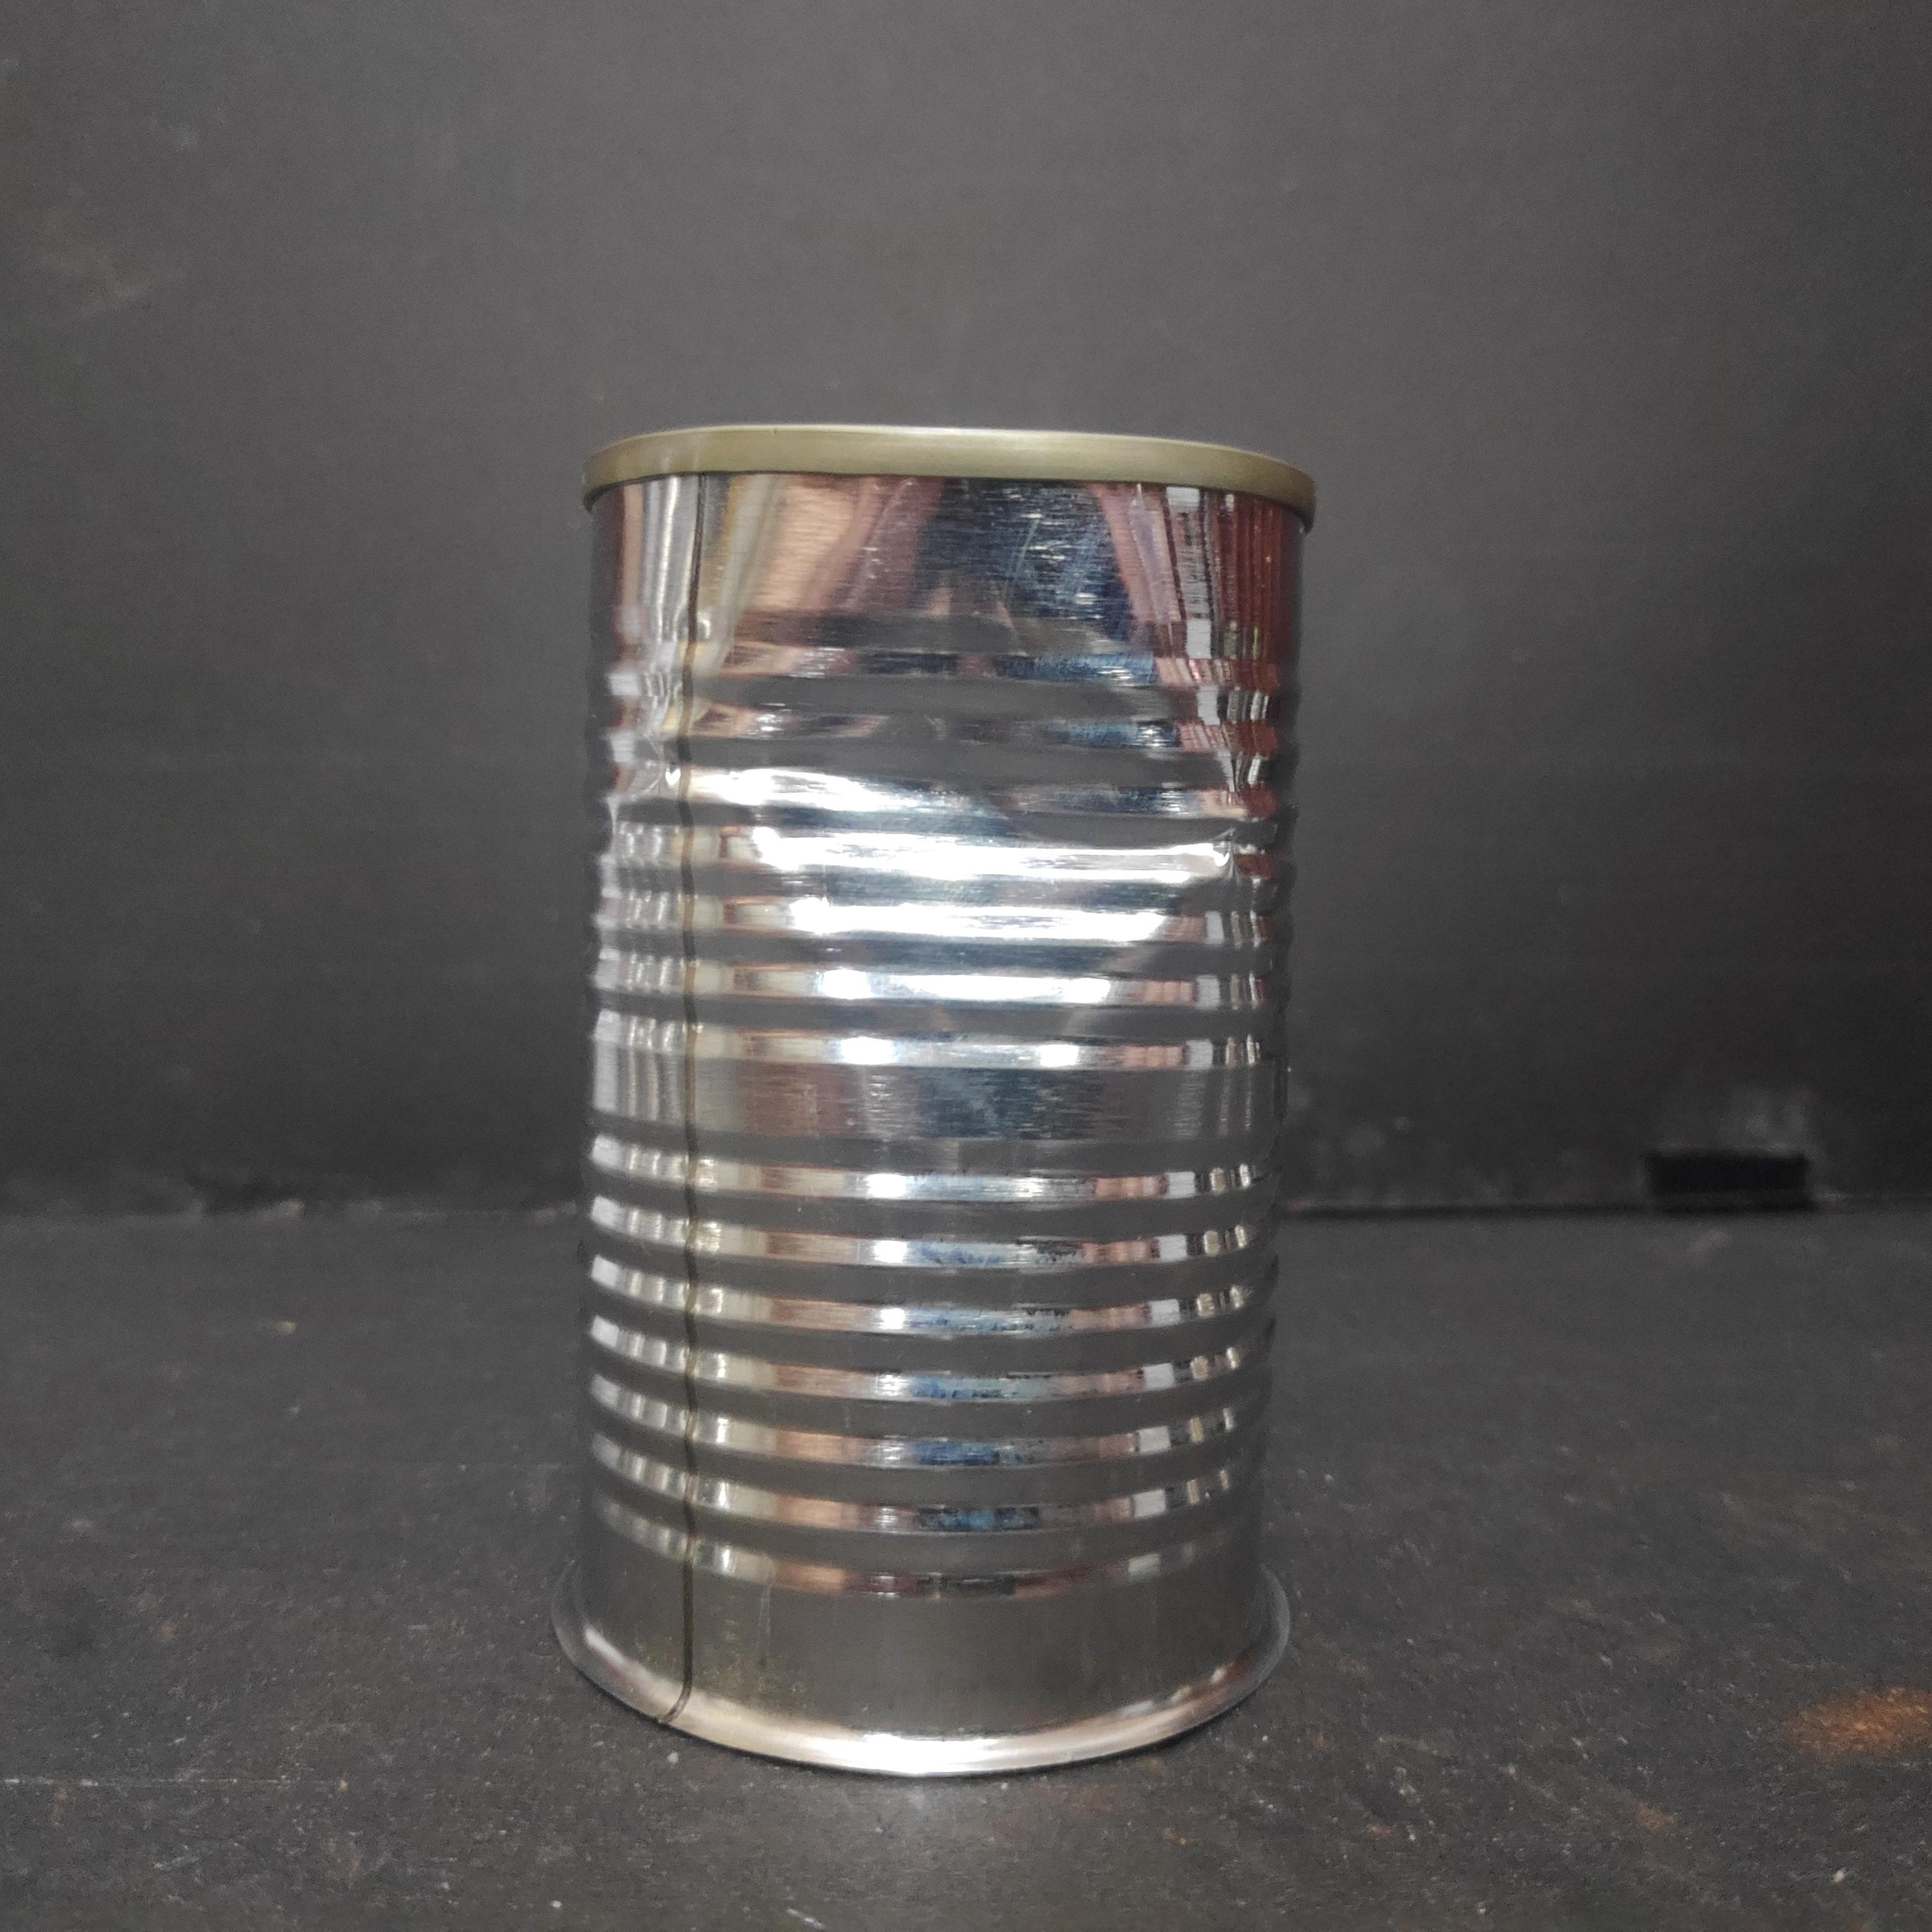Minor Defect: (563, 410, 1329, 1790)
